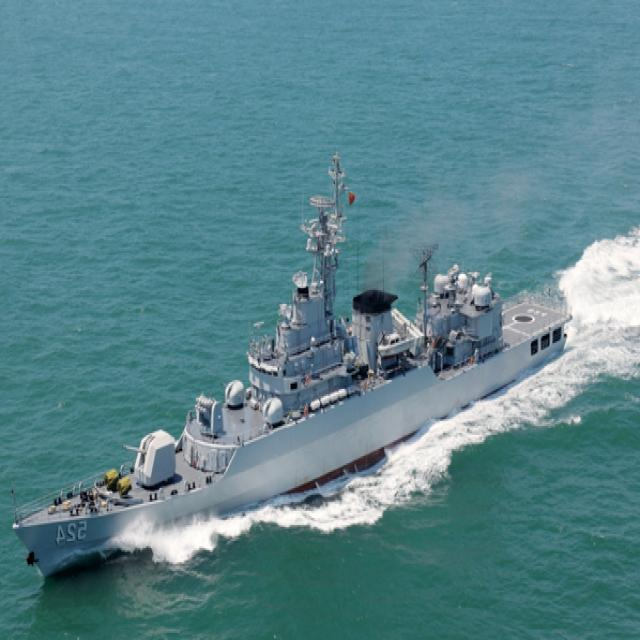navalvessels: (2, 168, 571, 588)
